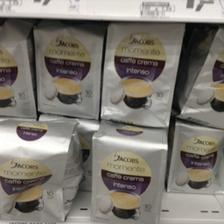Kaffee: (101, 21, 181, 125), (0, 119, 80, 223), (88, 122, 166, 223), (31, 22, 101, 120), (181, 26, 223, 126), (167, 120, 223, 192), (0, 20, 38, 118)
